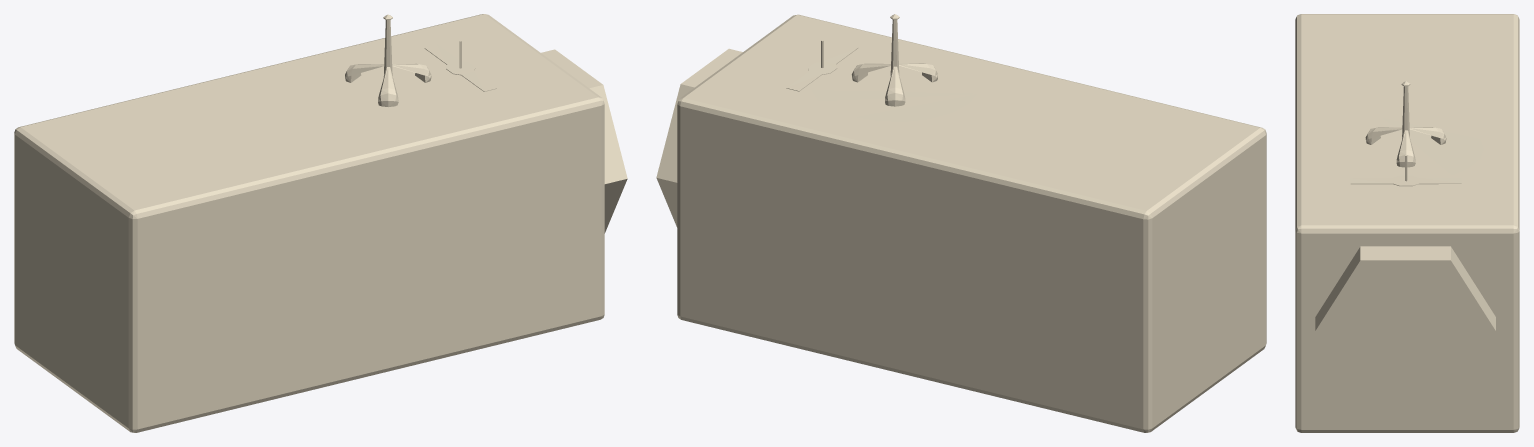
File: maxi.glb
The picture shows the model from 3 angles, left to right: view 1: azimuth 30°, elevation 25°; view 2: azimuth 150°, elevation 25°; view 3: azimuth 270°, elevation 25°; orthographic projection. The views are drawn at different scales.
Visible parts, largest first — view 1: JEM_EF_MAXI; view 2: JEM_EF_MAXI; view 3: JEM_EF_MAXI.
Boxes of the visible parts, box(x1,y1,x2,y2) form: JEM_EF_MAXI: box(14, 14, 627, 432); JEM_EF_MAXI: box(656, 14, 1266, 432); JEM_EF_MAXI: box(1295, 14, 1519, 432).
Size of the model in its own units: 0.2024 by 0.1153 by 0.0833.
